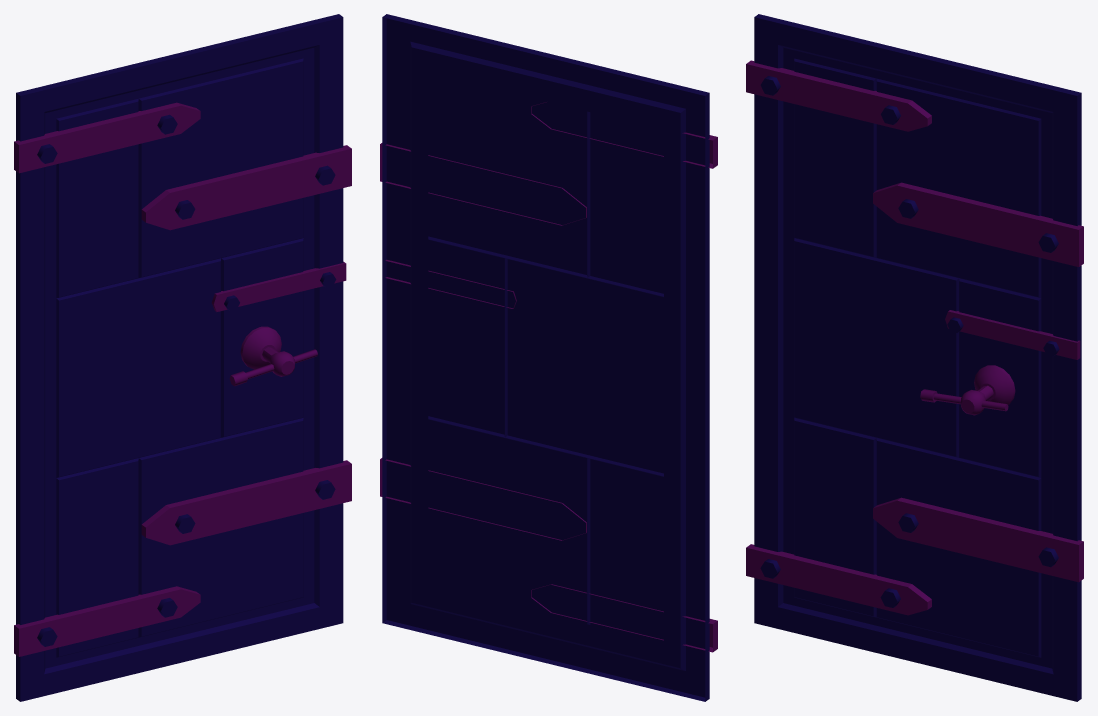
File: Door_Single_Metal_01.FBX
3 renders of one model, left to right at view 1: azimuth 30°, elevation 25°; view 2: azimuth 150°, elevation 25°; view 3: azimuth 330°, elevation 25°, orthographic.
Visible parts, largest first — view 1: Door_Single_Metal_01_LOD0; view 2: Door_Single_Metal_01_LOD0; view 3: Door_Single_Metal_01_LOD0.
Part boxes in pixels (left/top/right/bottom): Door_Single_Metal_01_LOD0: left=14, top=14, right=351, bottom=701; Door_Single_Metal_01_LOD0: left=380, top=14, right=717, bottom=701; Door_Single_Metal_01_LOD0: left=746, top=14, right=1083, bottom=701.
Bounding box in the file's own units: 156 × 272 × 25.46.
